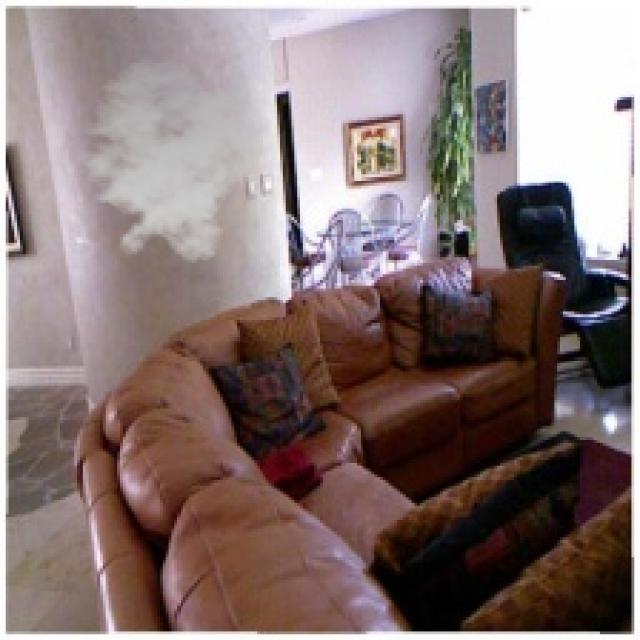smoke: (60, 57, 271, 263)
